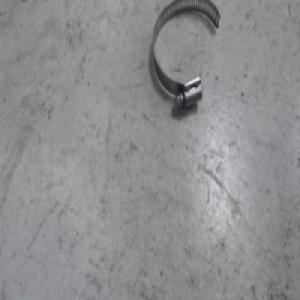AdjustableClamp: (151, 1, 221, 109)
